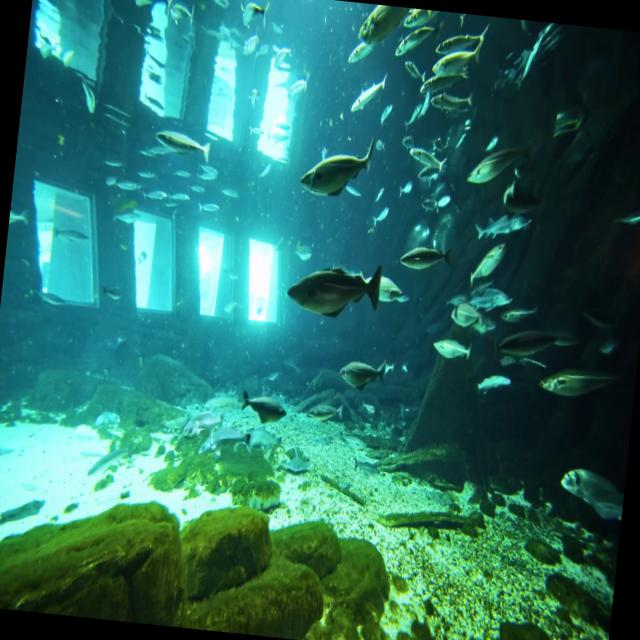fish: (281, 251, 385, 327), (297, 126, 378, 197), (556, 458, 626, 522), (538, 366, 636, 408), (146, 116, 216, 158), (431, 38, 488, 82), (238, 385, 288, 426), (401, 241, 453, 274), (341, 356, 389, 390), (428, 332, 472, 362)
